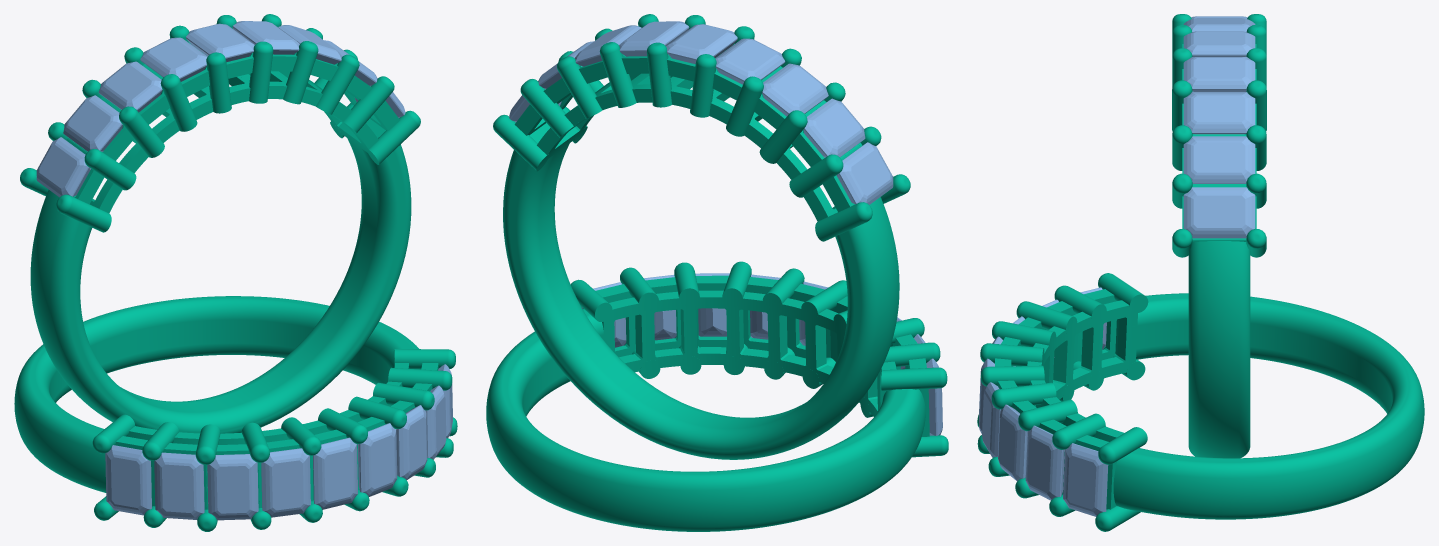
3 renders of one model, left to right at view 1: azimuth 30°, elevation 25°; view 2: azimuth 150°, elevation 25°; view 3: azimuth 270°, elevation 25°, orthographic. The views are drawn at different scales.
Visible parts, largest first — view 1: VR EMERALD SIZE - N.3dm, Diamond_Emerald (×15), Prong (×20), Bezel (×7); view 2: VR EMERALD SIZE - N.3dm, Bezel (×21), Prong (×19), Diamond_Emerald (×11); view 3: VR EMERALD SIZE - N.3dm, Diamond_Emerald (×10), Prong (×15), Bezel (×5).
Boxes of the visible parts, left/top/right/bottom form: VR EMERALD SIZE - N.3dm: left=14, top=118, right=421, bottom=492; Diamond_Emerald (×15): left=36, top=21, right=446, bottom=520; Prong (×20): left=56, top=41, right=455, bottom=464; Bezel (×7): left=66, top=64, right=399, bottom=213; VR EMERALD SIZE - N.3dm: left=486, top=123, right=925, bottom=531; Bezel (×21): left=514, top=66, right=862, bottom=383; Prong (×19): left=493, top=42, right=948, bottom=457; Diamond_Emerald (×11): left=575, top=21, right=942, bottom=435; VR EMERALD SIZE - N.3dm: left=1113, top=241, right=1424, bottom=519; Diamond_Emerald (×10): left=982, top=18, right=1255, bottom=516; Prong (×15): left=980, top=80, right=1266, bottom=531; Bezel (×5): left=1048, top=289, right=1137, bottom=509.
Size of the model in its own units: 2.24 by 2.35 by 2.33.
